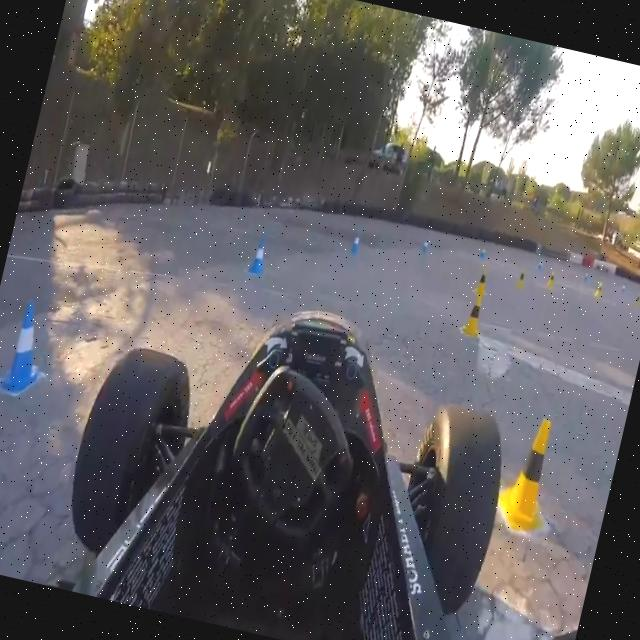blue_cone: (0, 298, 52, 397), (248, 233, 270, 277), (350, 227, 362, 253), (419, 234, 431, 254)
yellow_cone: (498, 414, 564, 530), (463, 294, 486, 338), (474, 266, 489, 298), (514, 264, 528, 294), (545, 268, 558, 288), (592, 280, 605, 300)
